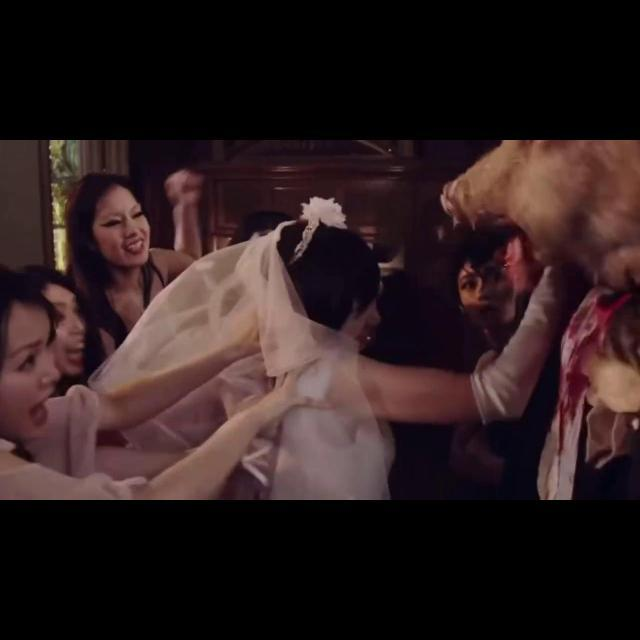blood: (539, 286, 615, 499)
